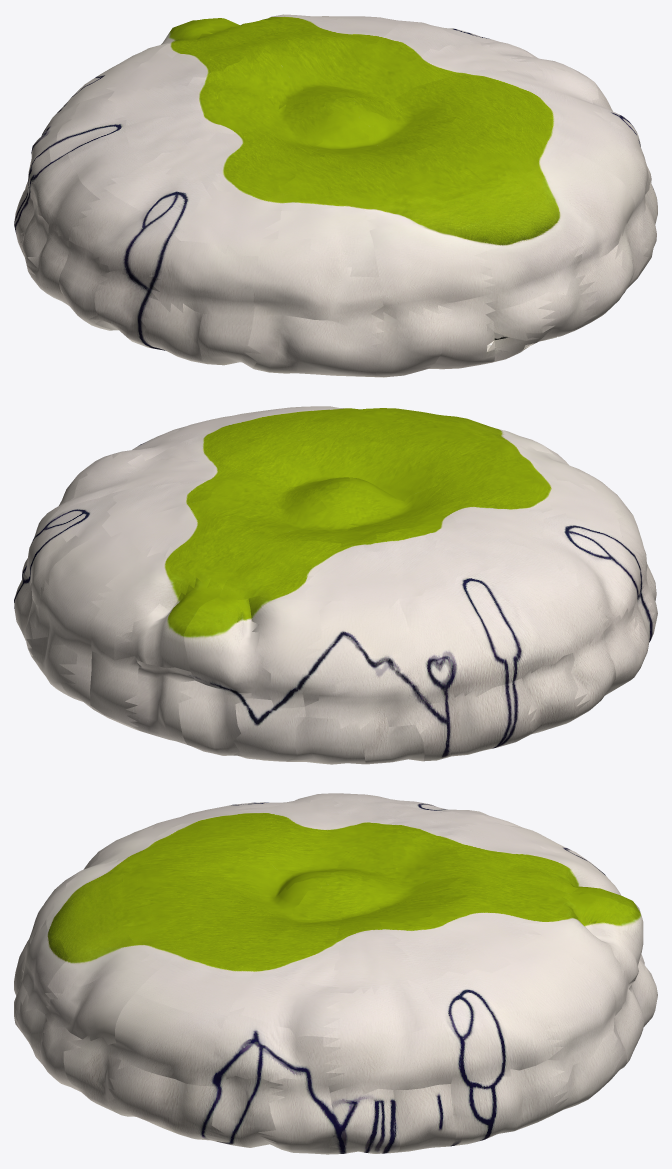
File: s1_quality_stepping_stone.glb
3 views of the same model, one above another, from view 1: azimuth 30°, elevation 25°; view 2: azimuth 150°, elevation 25°; view 3: azimuth 270°, elevation 25° (orthographic).
Size of the model in its own units: 1.91 by 0.5284 by 1.87.
1 material, 1 textured.
